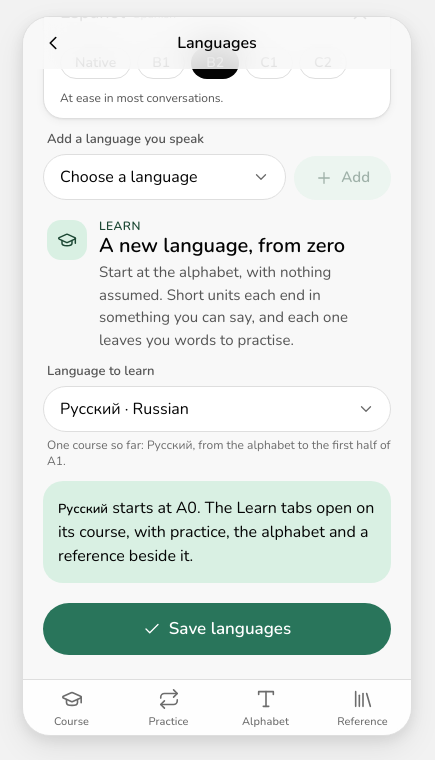
Test: Settings › returns to Settings after saving languages opened directly
(page scrolled)
What coordinates should you click on to do the following:
click the button "Save languages"
I would click on:
 (217, 629)
Its box is [43,603,391,655].
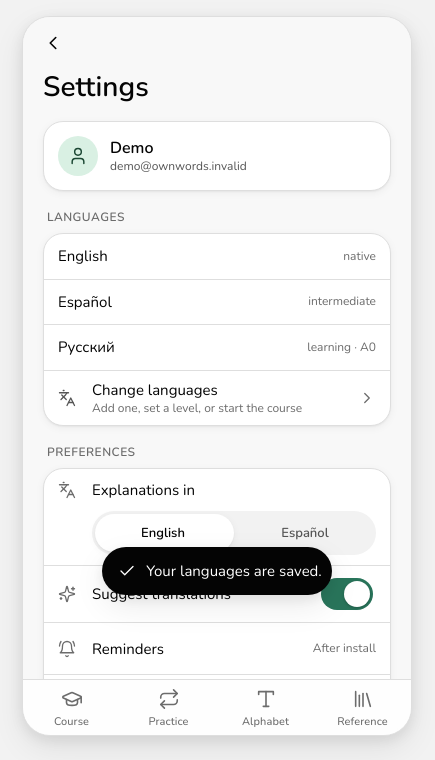
Check: the heading "Settings" is shown, box [43,68,149,106]
